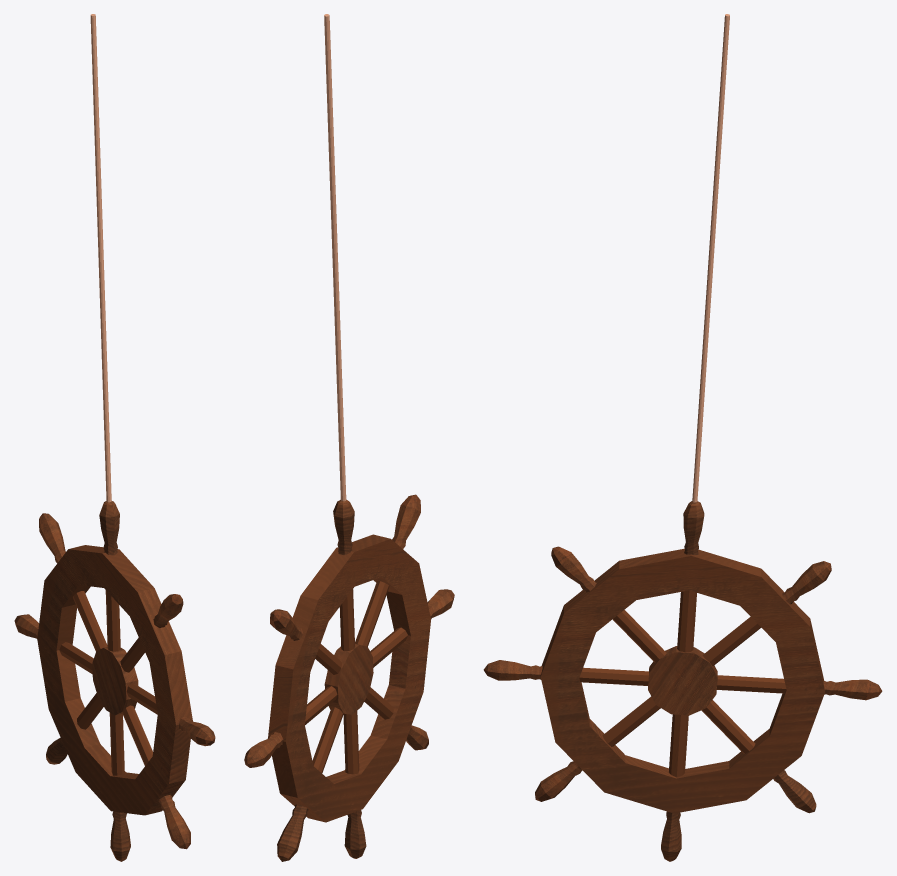
Rendered from Rudderwheel.fbx.
3 views of the same model, side by side, from view 1: azimuth 30°, elevation 25°; view 2: azimuth 150°, elevation 25°; view 3: azimuth 270°, elevation 25° (orthographic). The views are drawn at different scales.
Visible parts, largest first — view 1: M_Rudderwheel; view 2: M_Rudderwheel; view 3: M_Rudderwheel.
Part boxes in pixels (x1=…): M_Rudderwheel: x1=14, y1=14, x2=215, y2=861; M_Rudderwheel: x1=244, y1=14, x2=454, y2=861; M_Rudderwheel: x1=483, y1=14, x2=882, y2=861.
Size of the model in its own units: 24.37 by 1070 by 457.
1 material, 1 textured.
